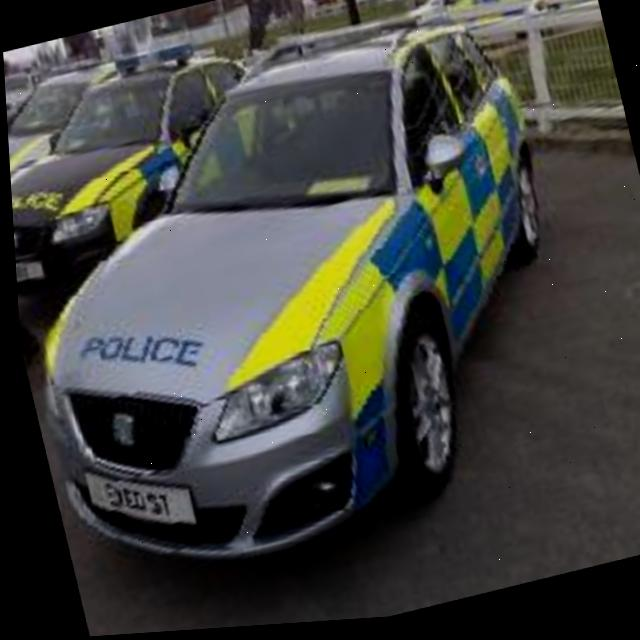emergency: (2, 7, 598, 584)
